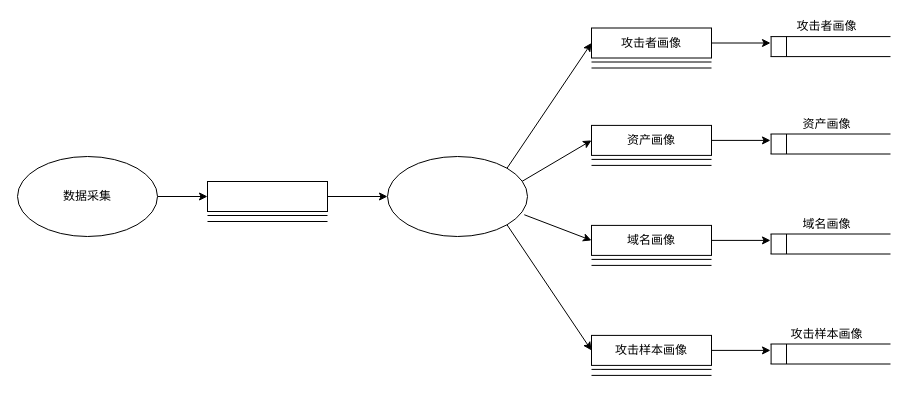
The diagram is 909 pixels wide and 395 high, and some of its shapes have lost their labels. Here are the shapes that lost their labels. From the top down, the centre of each, then its label:
the point at 267,196: 原始日志
the point at 457,196: 画像溯源分析
